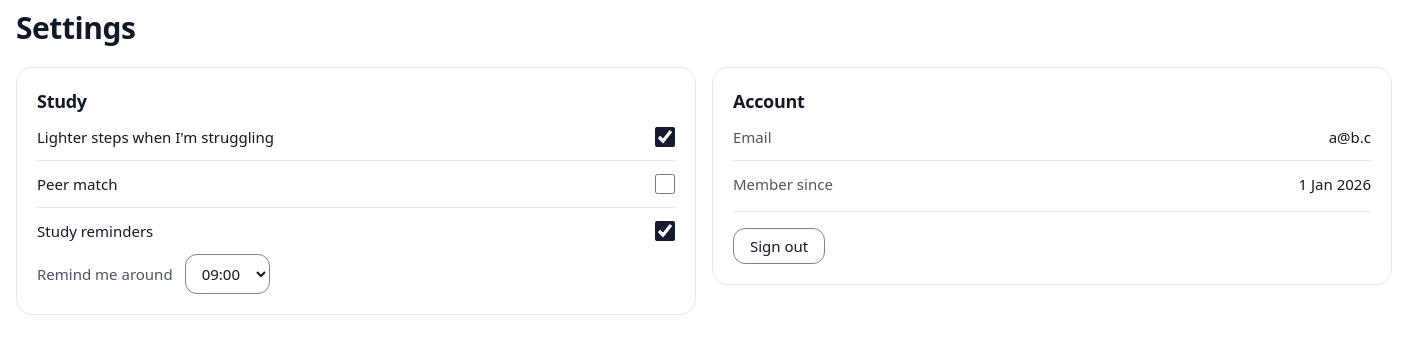
Test: Settings toggle › puts the toggle back and says so when saving fails
Step 1. Click the checkbox labelled "Lighter steps when I'm struggling" → (665, 137), box top-left (655, 127), bottom-right (675, 147)
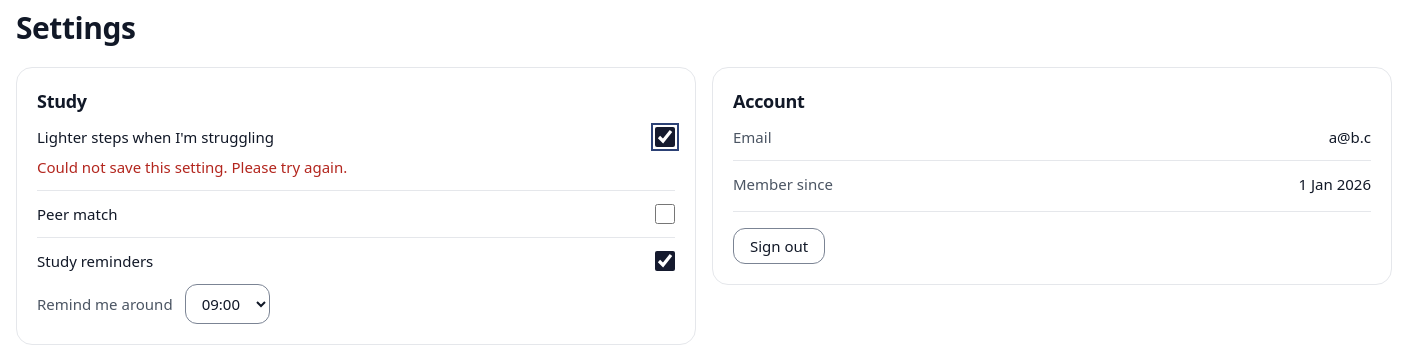
Result: the message shows "Could not save" at top-left (37, 157), bottom-right (347, 177)
